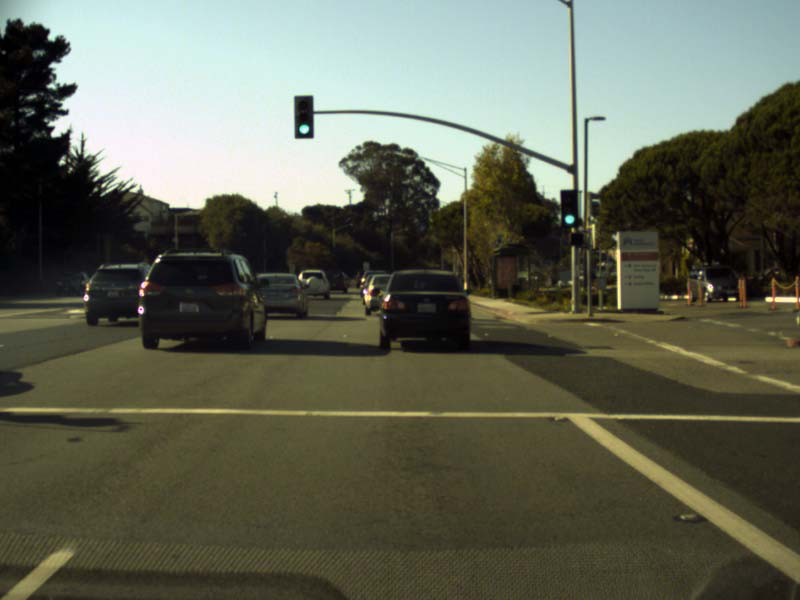Green: (294, 95, 312, 139), (561, 189, 576, 226)
